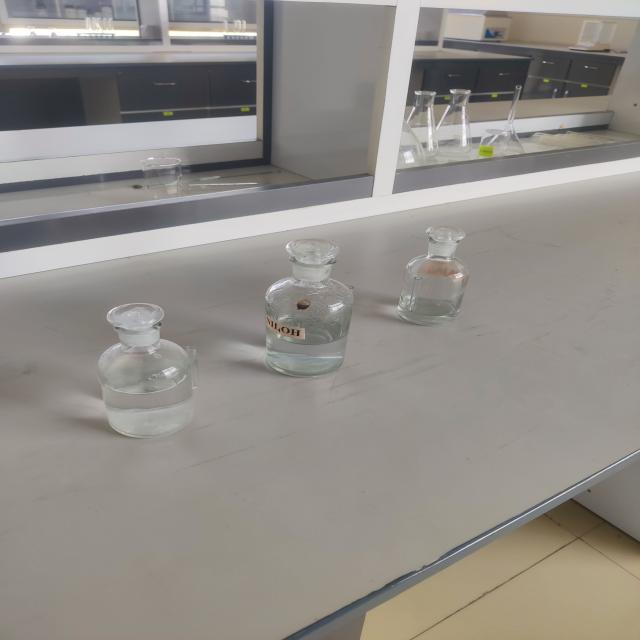Reagent_Bottle: (56, 282, 224, 455), (252, 229, 372, 390), (384, 218, 492, 341)
